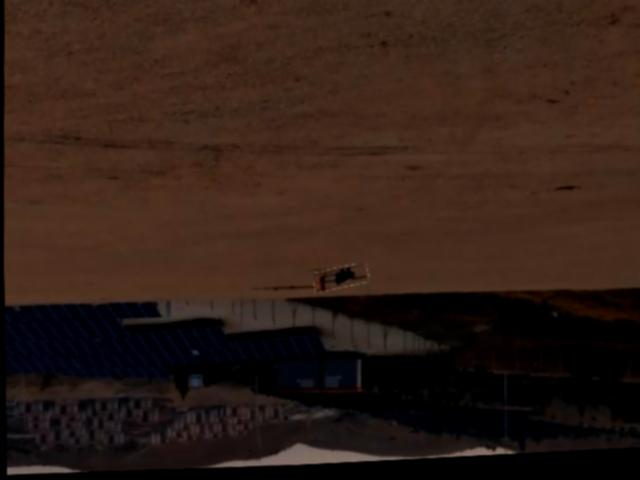insansiz-hava-araci: (312, 268, 368, 295)
